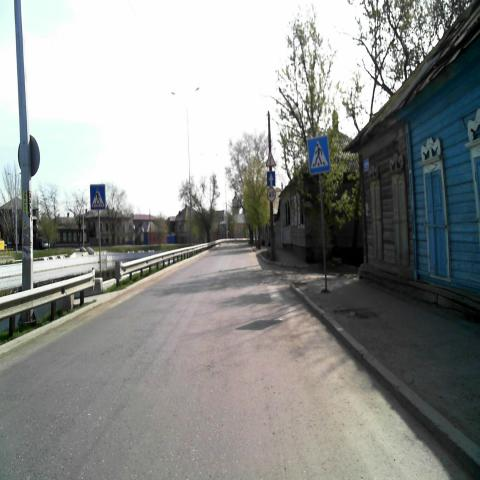1_11: (265, 154, 275, 167)
